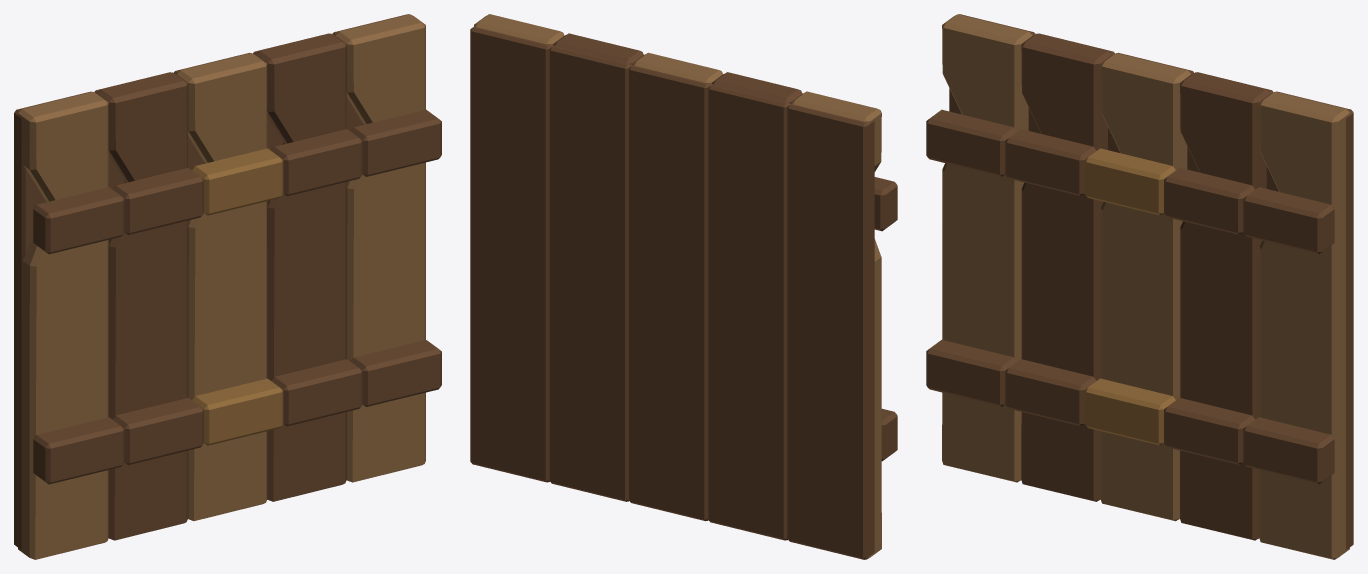
File: TIMBER_BREAK_WALL.lo.glb
The picture shows the model from 3 angles, left to right: view 1: azimuth 30°, elevation 25°; view 2: azimuth 150°, elevation 25°; view 3: azimuth 330°, elevation 25°; orthographic projection.
Parts seen in each view (by area): view 1: BreakGroup0_Mesh, BreakGroup1_Mesh, BreakGroup2_Mesh, BreakGroup3_Mesh, BreakGroup4_Mesh; view 2: BreakGroup0_Mesh, BreakGroup1_Mesh, BreakGroup4_Mesh, BreakGroup2_Mesh, BreakGroup3_Mesh; view 3: BreakGroup4_Mesh, BreakGroup1_Mesh, BreakGroup3_Mesh, BreakGroup0_Mesh, BreakGroup2_Mesh.
Part boxes in pixels (x1,y1,x2,y2): BreakGroup0_Mesh: [14, 91, 124, 559]; BreakGroup1_Mesh: [94, 72, 203, 540]; BreakGroup2_Mesh: [173, 52, 283, 520]; BreakGroup3_Mesh: [253, 33, 362, 501]; BreakGroup4_Mesh: [332, 14, 441, 482]; BreakGroup0_Mesh: [787, 91, 897, 559]; BreakGroup1_Mesh: [708, 72, 802, 540]; BreakGroup4_Mesh: [470, 14, 564, 482]; BreakGroup2_Mesh: [629, 52, 723, 521]; BreakGroup3_Mesh: [549, 33, 643, 501]; BreakGroup4_Mesh: [1243, 91, 1353, 559]; BreakGroup1_Mesh: [1005, 33, 1114, 501]; BreakGroup3_Mesh: [1164, 72, 1273, 540]; BreakGroup0_Mesh: [926, 14, 1035, 482]; BreakGroup2_Mesh: [1084, 52, 1193, 521].
Bounding box in the file's own units: 1.43 × 1.52 × 0.2145.
